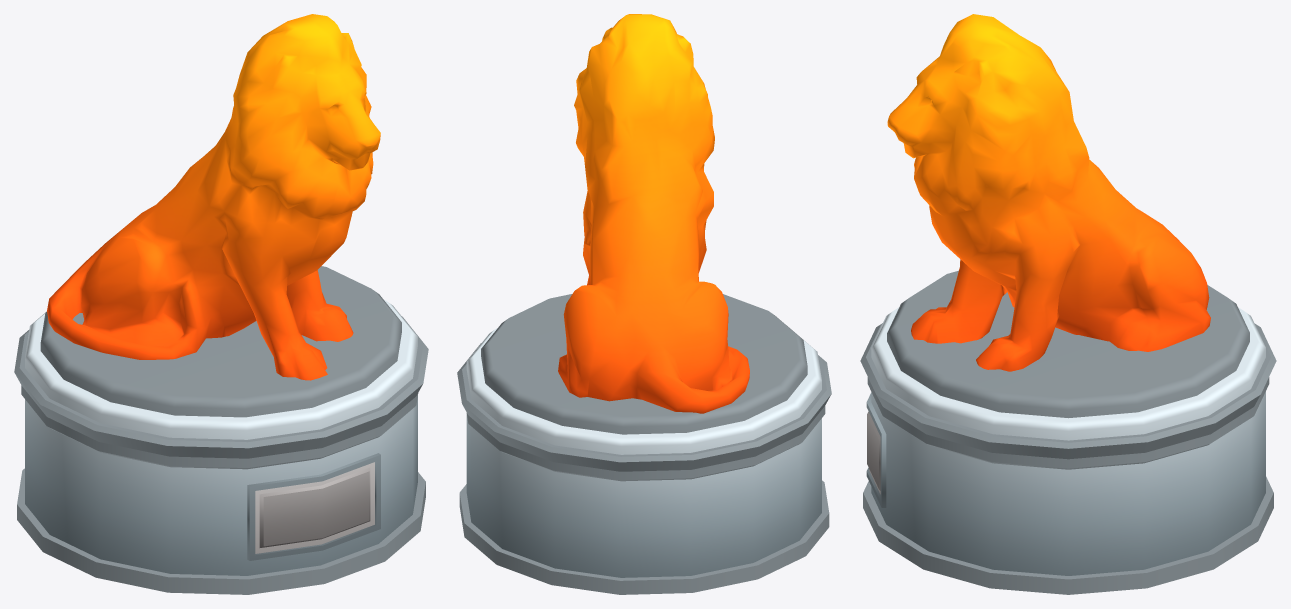
The model's file is city2-statue-01.glb.
The picture shows the model from 3 angles, left to right: view 1: azimuth 30°, elevation 25°; view 2: azimuth 150°, elevation 25°; view 3: azimuth 270°, elevation 25°; orthographic projection. The views are drawn at different scales.
Visible parts, largest first — view 1: Statue_01; view 2: Statue_01; view 3: Statue_01.
Boxes of the visible parts, x1,y1,x2,y2 form: Statue_01: (14,14,428,594); Statue_01: (457,14,831,594); Statue_01: (860,14,1276,594).
Bounding box in the file's own units: 6.46 × 8.68 × 6.46.
1 material, 1 textured.
